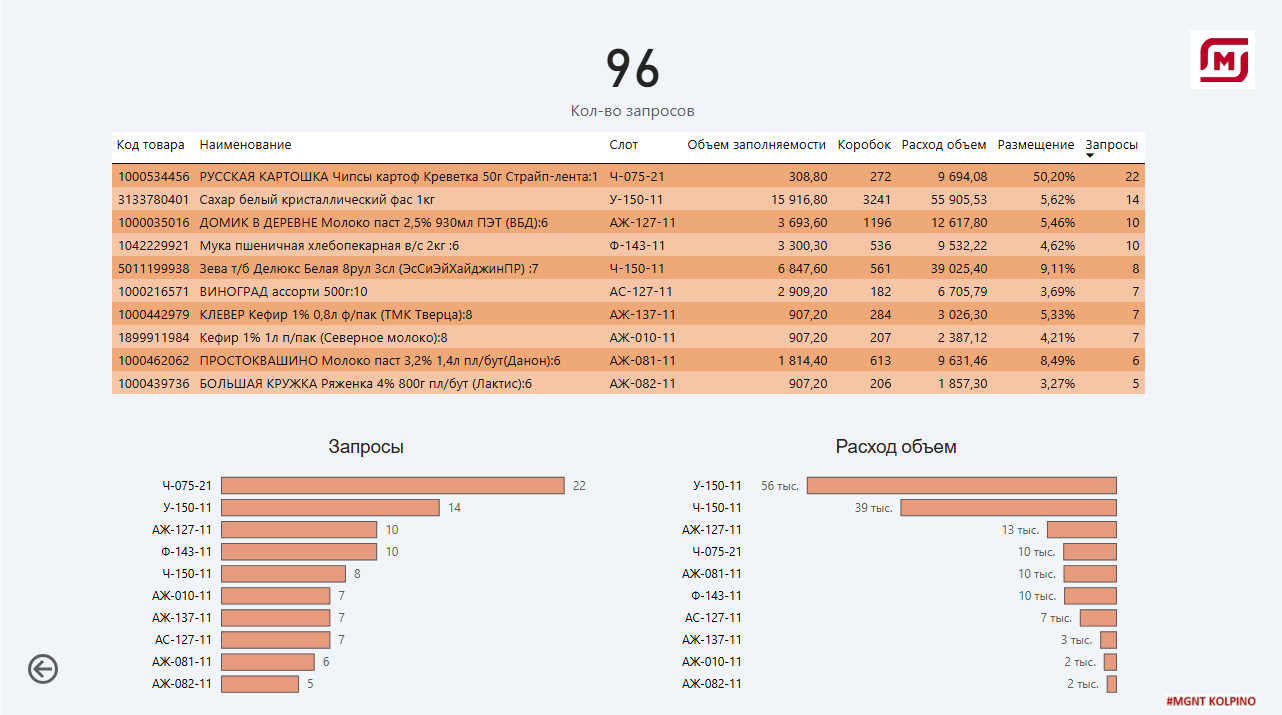

The dashboard page shown, as its layout file describes it:
{"tool":"powerbi","page":{"name":"Топ позиций по запросам","canvas":[1280,720],"ordinal":1},"visuals":[{"type":"tableEx","fields":{"Values":["Топ позиций.Код товара","Топ позиций.Наименование","Топ позиций.Слот","Топ позиций.Объем заполняемости","Топ позиций.Коробок","Топ позиций.Расход объем","Sum(Топ позиций.Размещение)","Топ позиций.Запросы"]},"box":[102,129,1075,288],"z":0},{"type":"image","box":[1181,17,75,89],"z":1000},{"type":"image","box":[1144,691,126,24],"z":2000},{"type":"clusteredBarChart","title":"Запросы","fields":{"Category":["Топ позиций.Слот"],"Y":["Sum(Топ позиций.Запросы)"]},"box":[137,438,451,271],"z":3000},{"type":"card","fields":{"Values":["Sum(Топ позиций.Запросы)"]},"box":[538,17,181,112],"z":4000},{"type":"clusteredBarChart","title":"Расход объем","fields":{"Category":["Топ позиций.Слот"],"Y":["Sum(Топ позиций.Расход объем)"]},"box":[667,438,451,271],"z":5000},{"type":"actionButton","box":[19,651,41,40],"z":6000}]}

Visuals, with their boxes in screenshot pixels (x1, y1, x2, y2), scaled from the page's 1280x720 canvas onto the 1282x715 screenshot:
tableEx - Топ позиций.Код товара x Топ позиций.Наименование: bbox=(102, 128, 1179, 414)
image: bbox=(1183, 17, 1258, 105)
image: bbox=(1146, 686, 1272, 710)
"Запросы" clusteredBarChart: bbox=(137, 435, 589, 704)
card - Sum(Топ позиций.Запросы): bbox=(539, 17, 720, 128)
"Расход объем" clusteredBarChart: bbox=(668, 435, 1120, 704)
actionButton: bbox=(19, 646, 60, 686)
